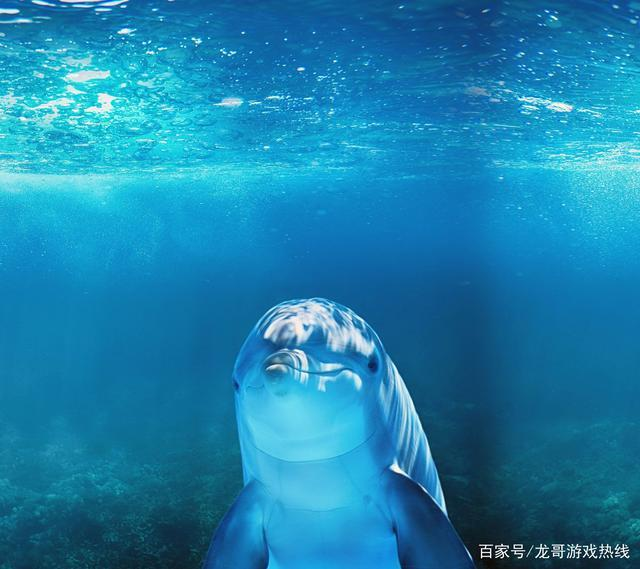fish: (193, 294, 470, 569)
